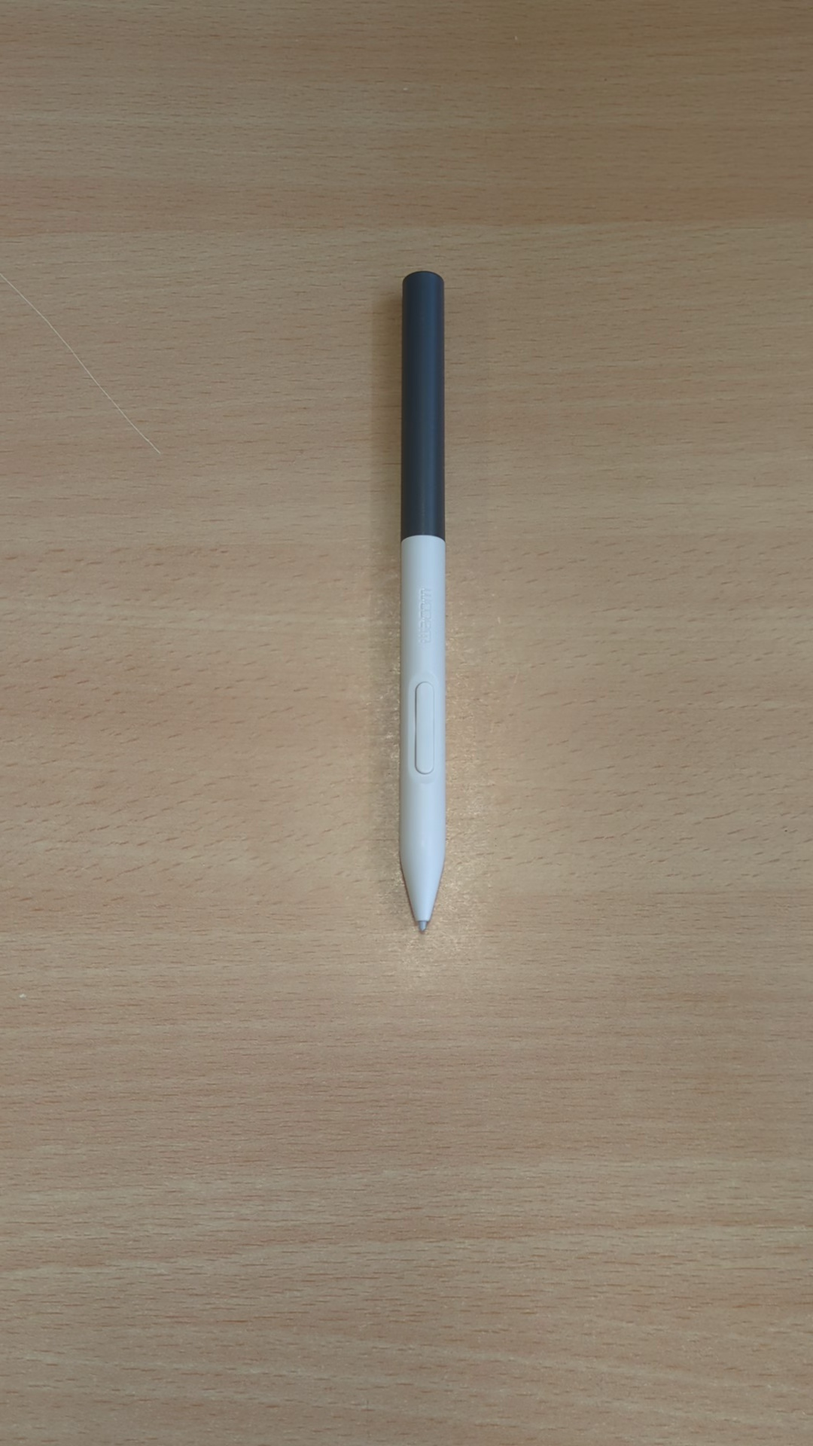pen: (394, 270, 454, 937)
tip: (406, 905, 440, 931)
